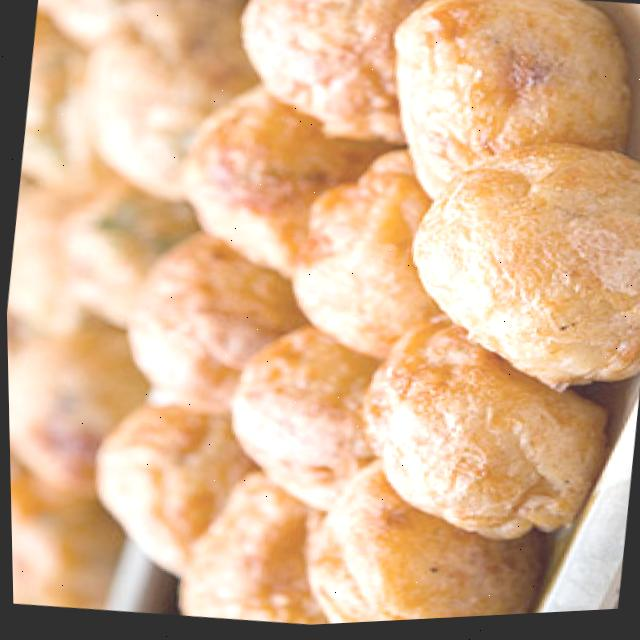炸货点心: (42, 0, 640, 638)
